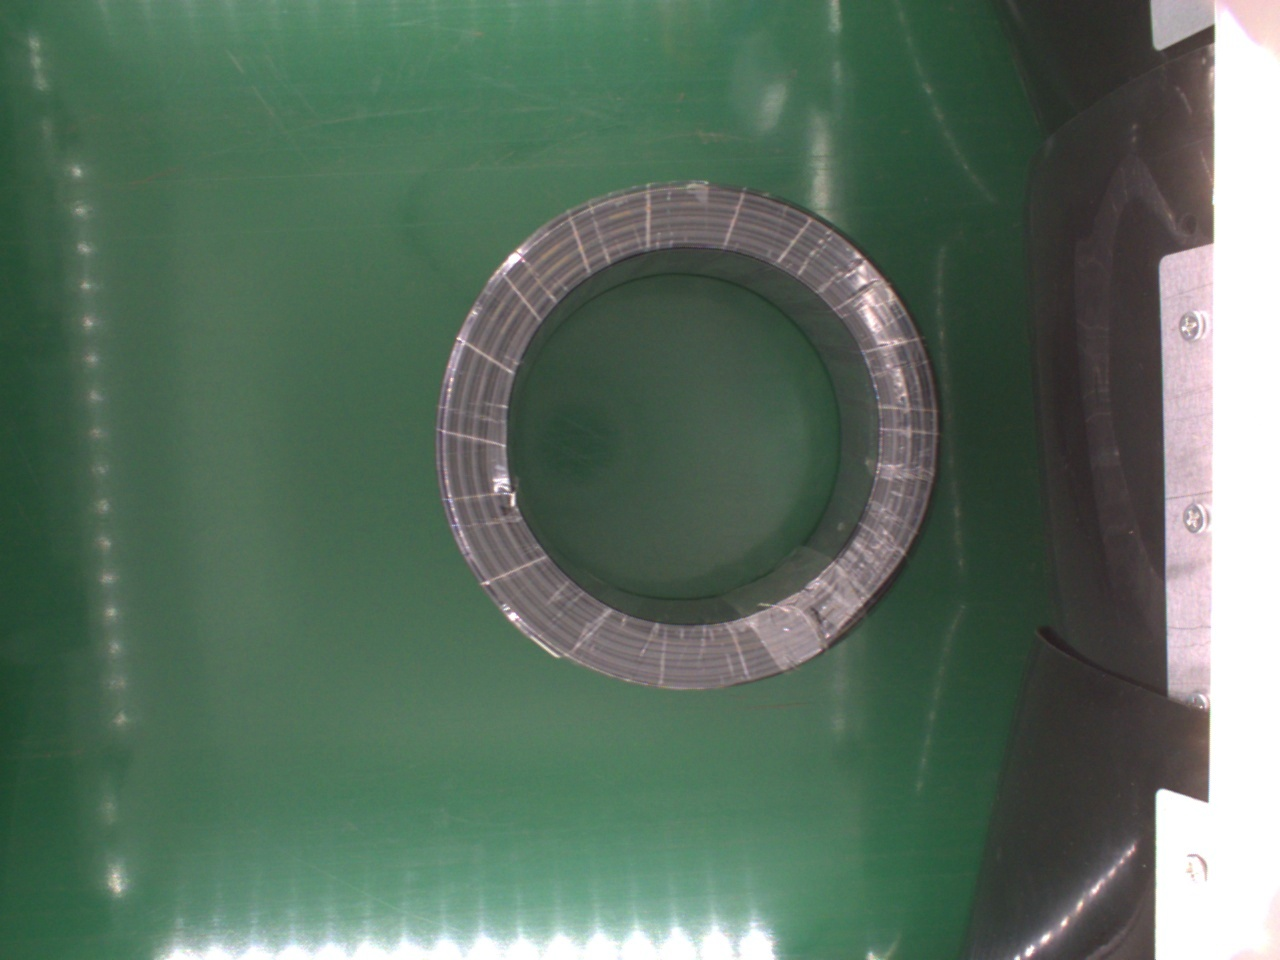black: (427, 177, 944, 696)
